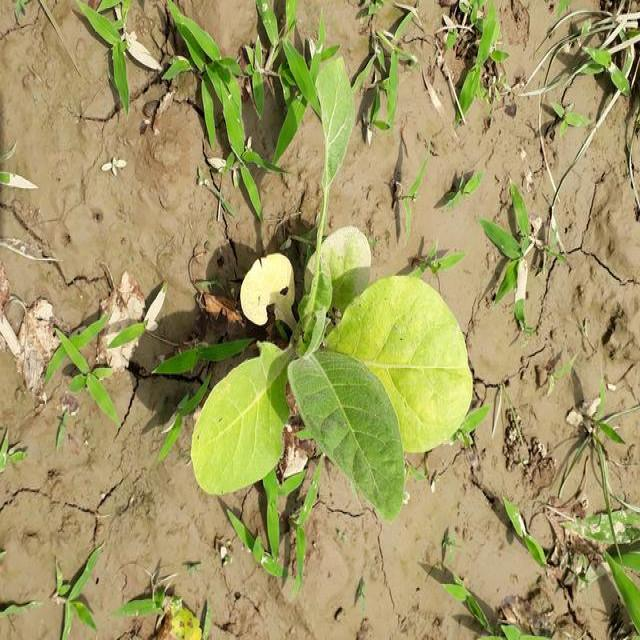crop: (192, 226, 473, 527)
